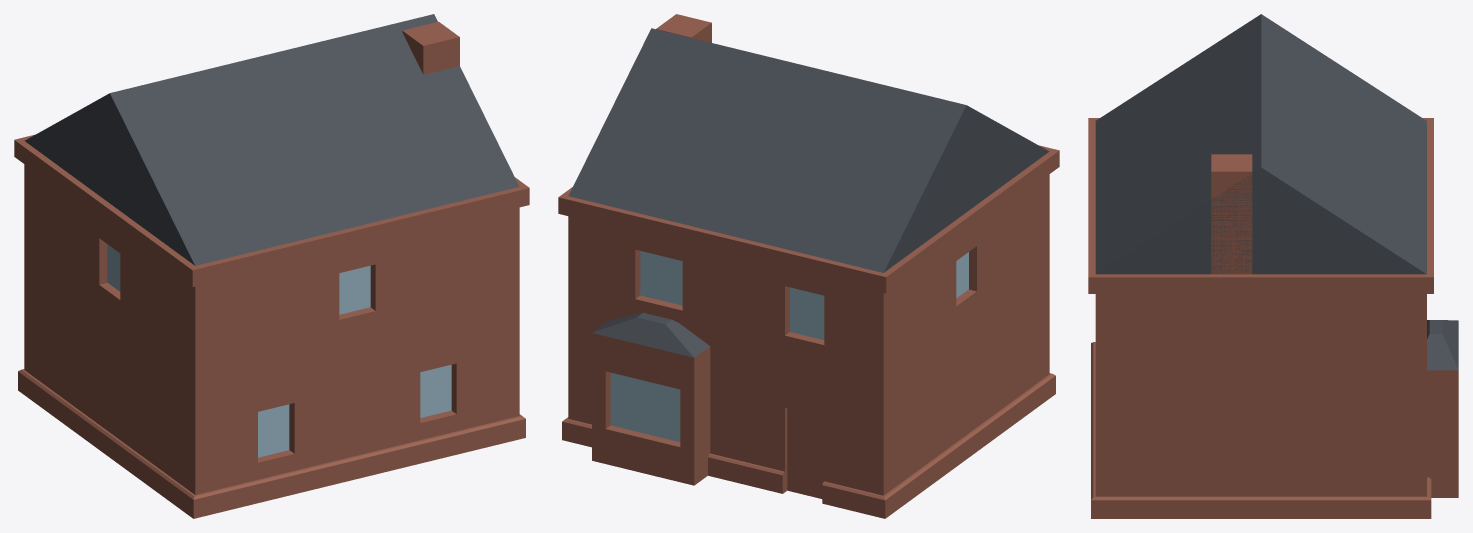
The picture shows the model from 3 angles, left to right: view 1: azimuth 30°, elevation 25°; view 2: azimuth 150°, elevation 25°; view 3: azimuth 270°, elevation 25°; orthographic projection. The views are drawn at different scales.
Visible parts, largest first — view 1: body_brick, roof_slate, trim_brick, glass_glass (×3); view 2: body_brick, roof_slate, trim_brick, glass_glass (×3); view 3: body_brick, roof_slate, trim_brick.
Part boxes in pixels (bbox=[...]): body_brick: bbox=[24, 21, 519, 494]; roof_slate: bbox=[25, 14, 519, 265]; trim_brick: bbox=[14, 134, 529, 518]; glass_glass (×3): bbox=[258, 265, 451, 457]; body_brick: bbox=[568, 14, 1049, 498]; roof_slate: bbox=[568, 28, 1049, 357]; trim_brick: bbox=[558, 145, 1059, 518]; glass_glass (×3): bbox=[610, 251, 824, 441]; body_brick: bbox=[1095, 154, 1458, 497]; roof_slate: bbox=[1095, 14, 1458, 370]; trim_brick: bbox=[1088, 118, 1433, 518].
Size of what is drawn, in the model's own units: 8.32 by 8.5 by 8.16.
